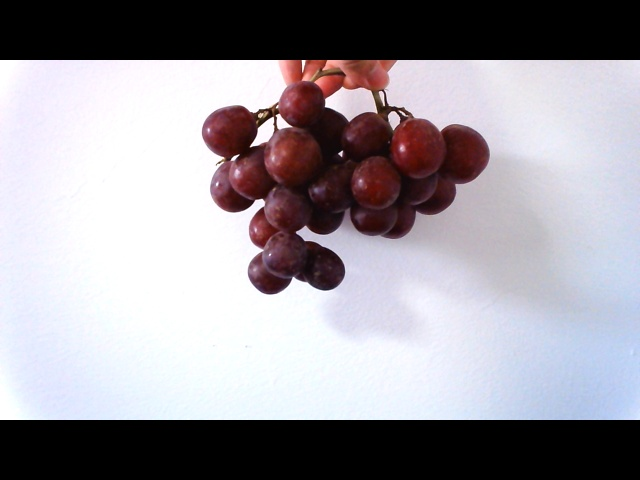grape: (192, 81, 494, 299)
